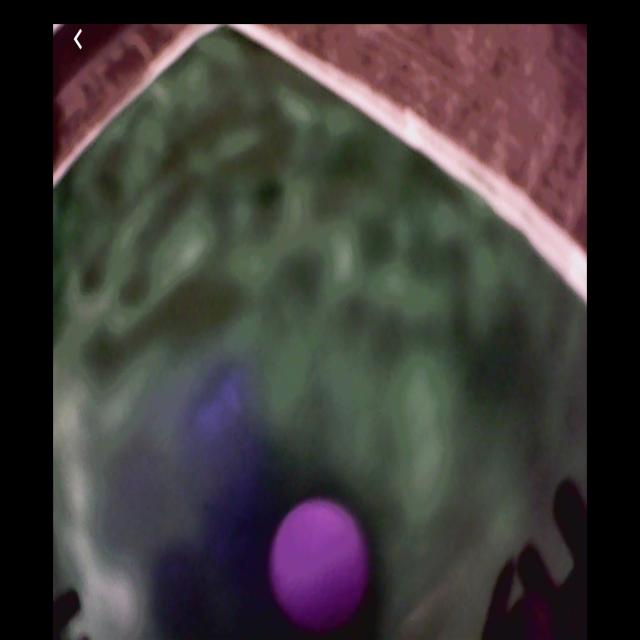ball: (271, 500, 370, 633)
